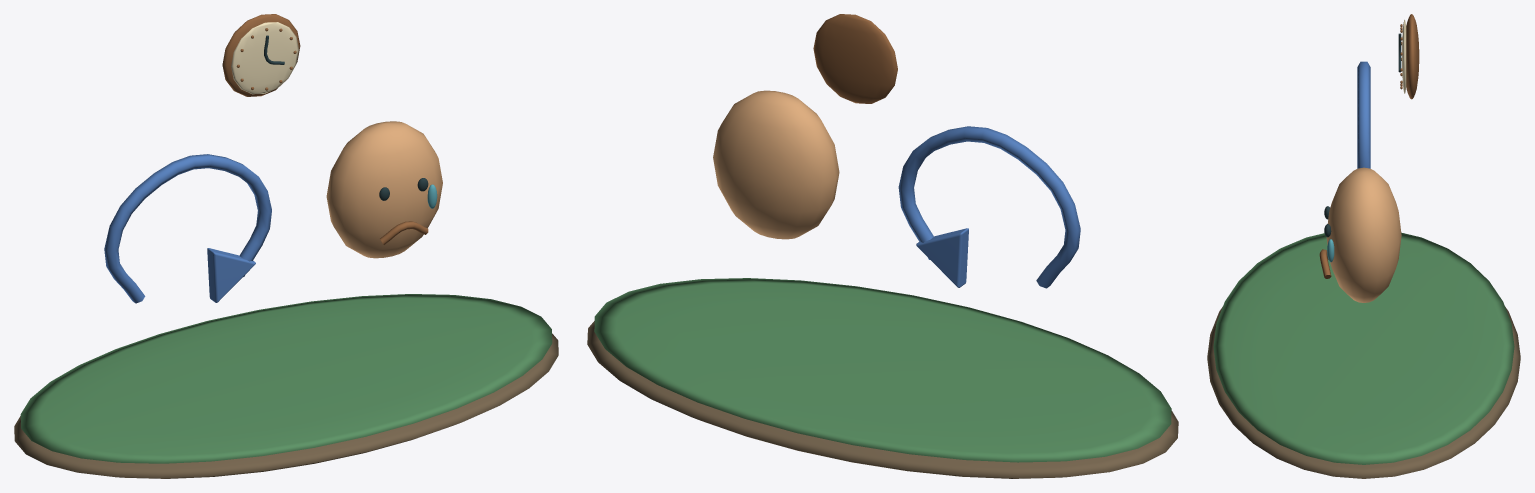
Rendered from complete-third-behind-regret.glb.
The picture shows the model from 3 angles, left to right: view 1: azimuth 30°, elevation 25°; view 2: azimuth 150°, elevation 25°; view 3: azimuth 270°, elevation 25°; orthographic projection. The views are drawn at different scales.
Visible parts, largest first — view 1: complete-third-behind-regret_surface_01, complete-third-behind-regret_surface_03, complete-third-behind-regret_surface_00, complete-third-behind-regret_surface_02, complete-third-behind-regret_surface_07, complete-third-behind-regret_surface_05; view 2: complete-third-behind-regret_surface_01, complete-third-behind-regret_surface_03, complete-third-behind-regret_surface_00, complete-third-behind-regret_surface_02, complete-third-behind-regret_surface_05; view 3: complete-third-behind-regret_surface_01, complete-third-behind-regret_surface_03, complete-third-behind-regret_surface_00, complete-third-behind-regret_surface_02, complete-third-behind-regret_surface_05.
Part boxes in pixels (x1,y1,x2,y2): complete-third-behind-regret_surface_01: [20, 294, 552, 463]; complete-third-behind-regret_surface_03: [326, 121, 442, 258]; complete-third-behind-regret_surface_00: [14, 333, 558, 478]; complete-third-behind-regret_surface_02: [104, 154, 271, 303]; complete-third-behind-regret_surface_07: [231, 22, 298, 94]; complete-third-behind-regret_surface_05: [222, 14, 428, 244]; complete-third-behind-regret_surface_01: [594, 278, 1171, 462]; complete-third-behind-regret_surface_03: [713, 90, 839, 239]; complete-third-behind-regret_surface_00: [587, 321, 1178, 478]; complete-third-behind-regret_surface_02: [898, 126, 1080, 288]; complete-third-behind-regret_surface_05: [813, 14, 897, 103]; complete-third-behind-regret_surface_01: [1213, 232, 1514, 464]; complete-third-behind-regret_surface_03: [1326, 167, 1401, 302]; complete-third-behind-regret_surface_00: [1207, 307, 1520, 478]; complete-third-behind-regret_surface_02: [1357, 61, 1370, 168]; complete-third-behind-regret_surface_05: [1319, 14, 1419, 278].
Size of the model in its own units: 4.56 by 3.12 by 2.5.
